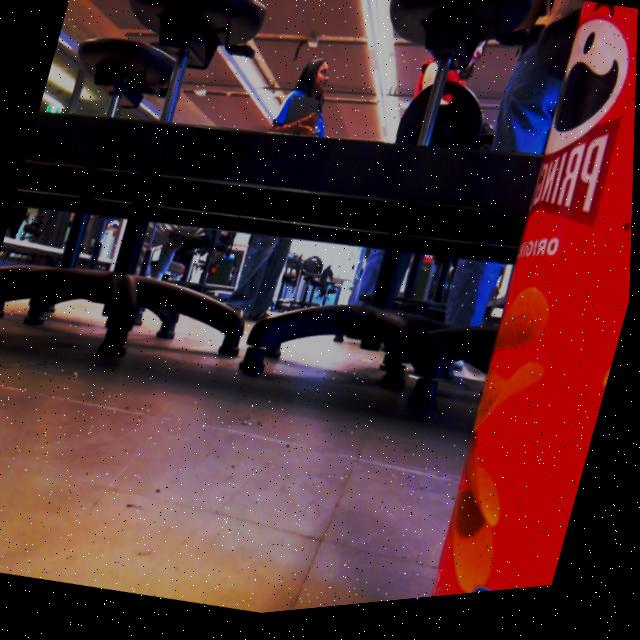redpringles: (404, 5, 639, 608)
